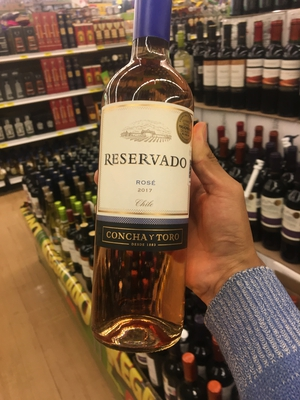reservado rose: (85, 10, 212, 379)
